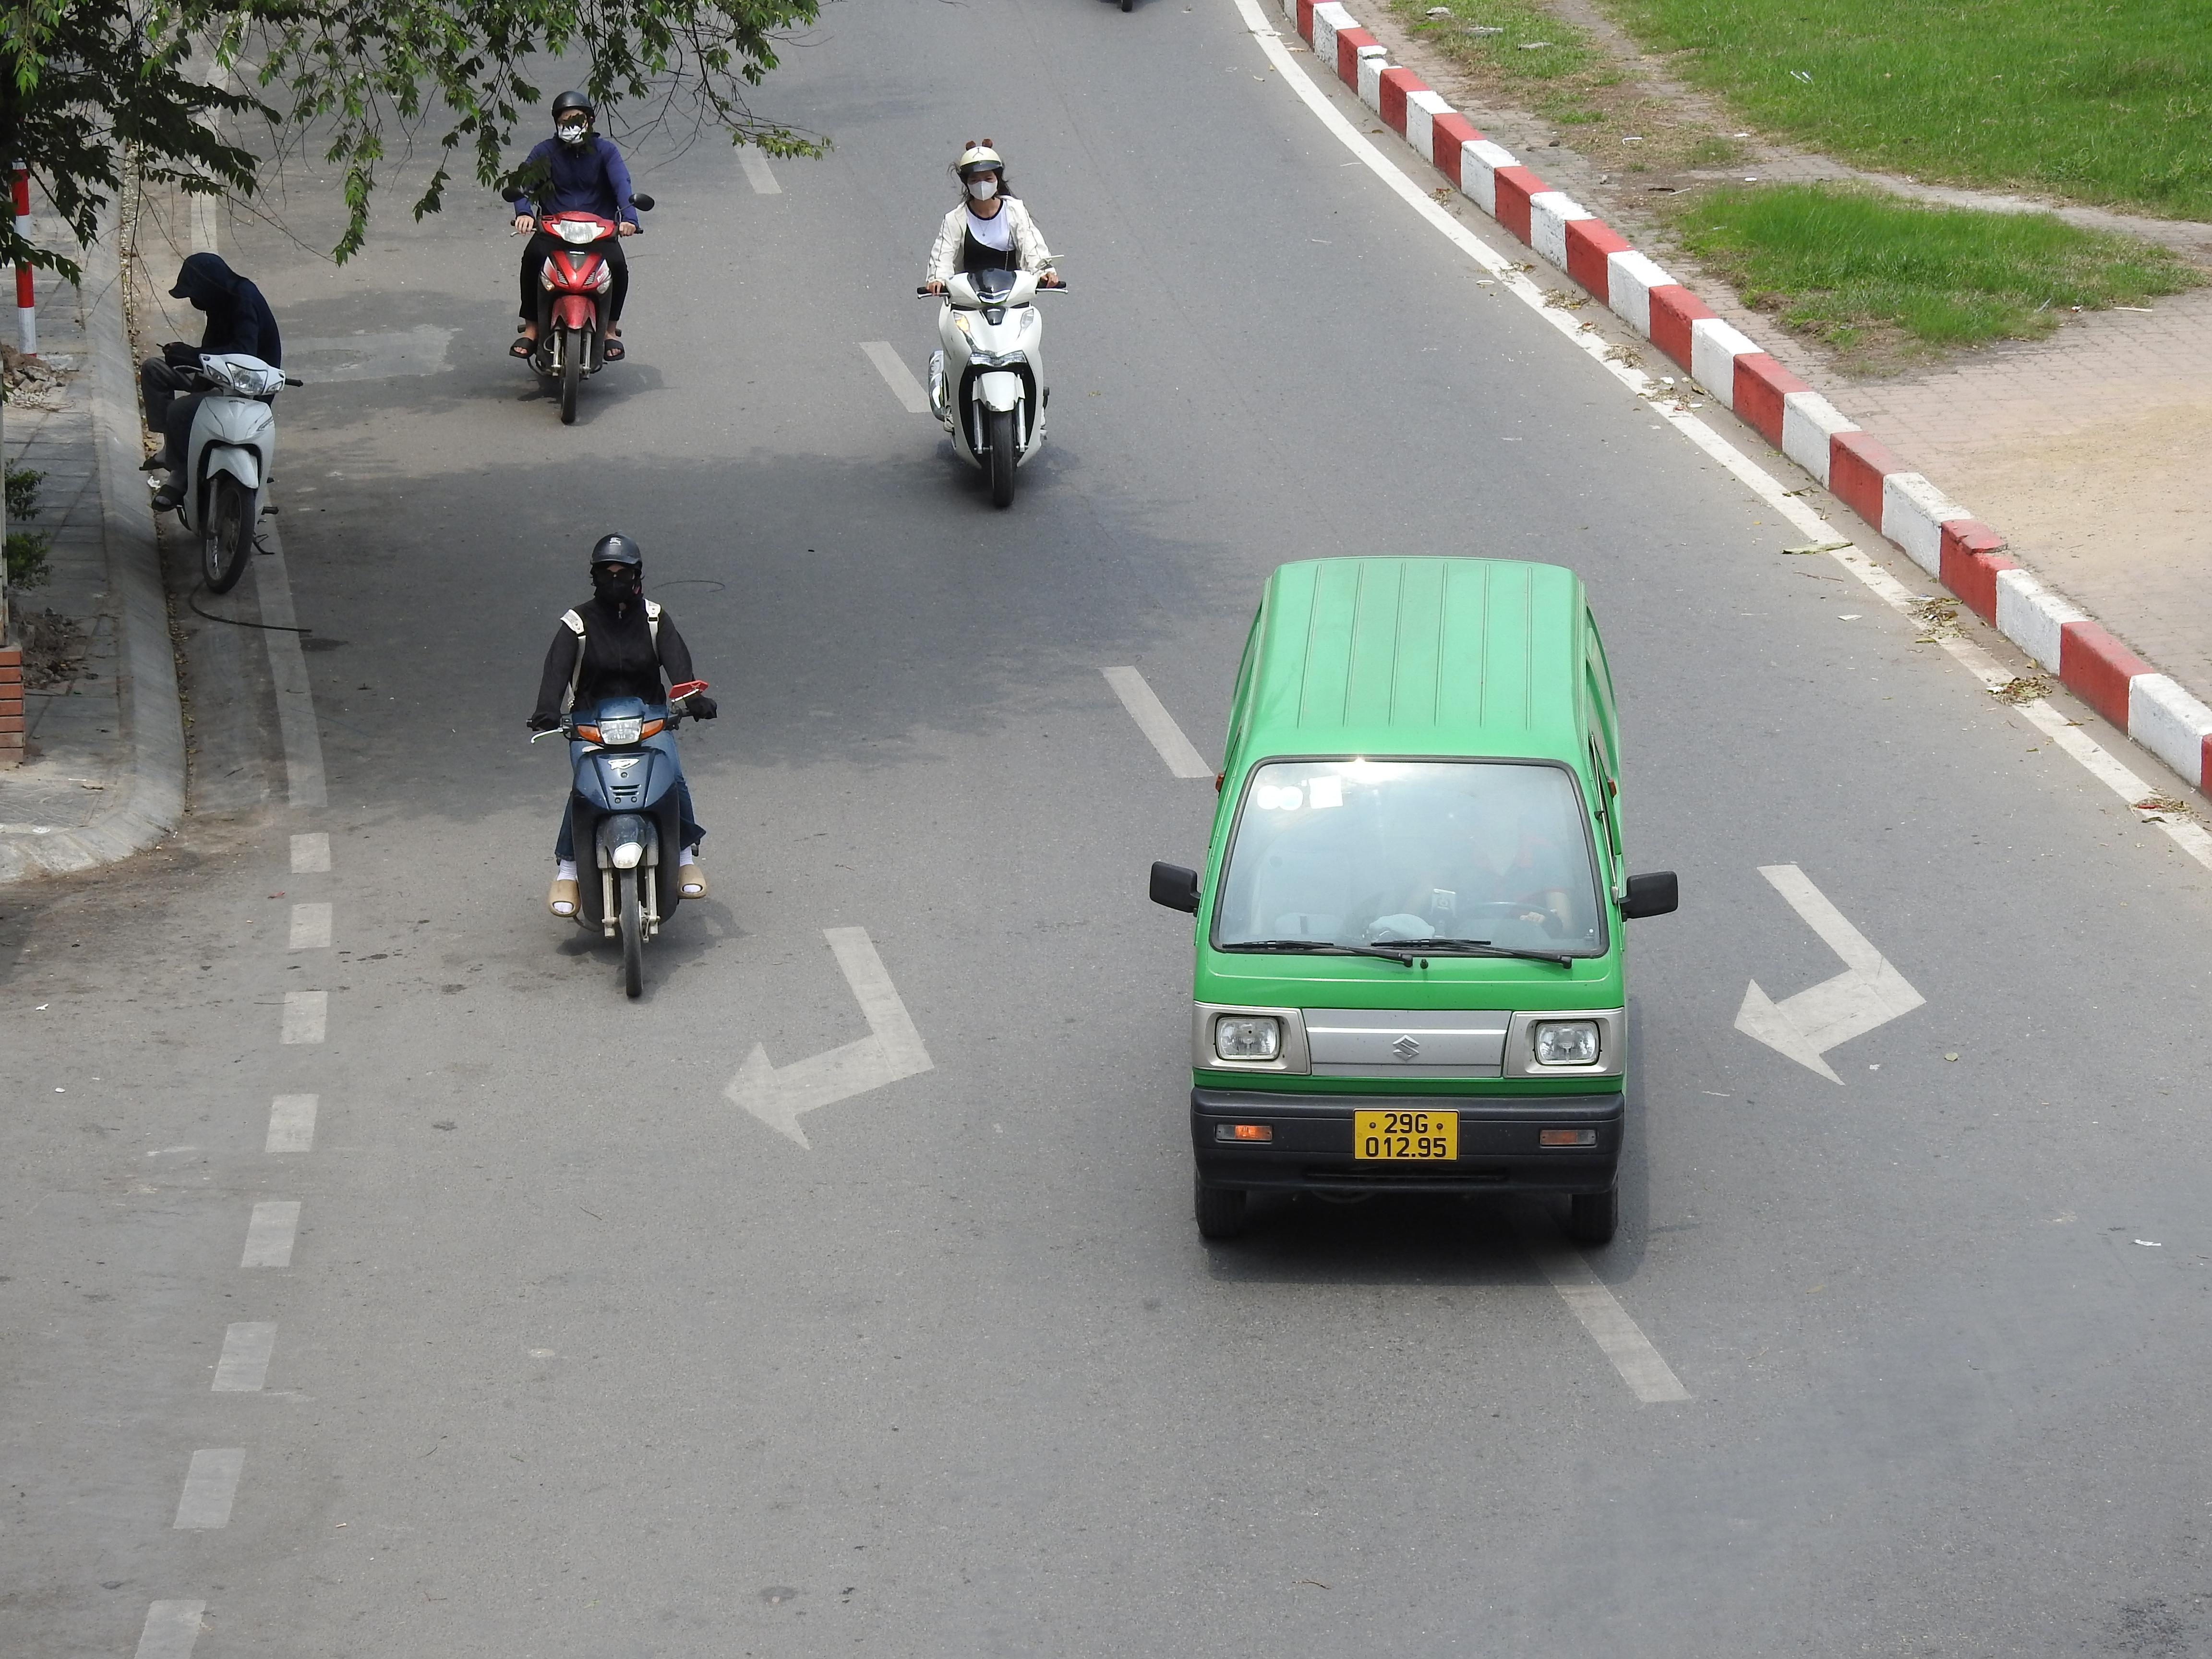BSV: (1353, 1110, 1458, 1161)
car: (1148, 552, 1679, 1249)
motorbike: (531, 532, 714, 1002), (134, 249, 296, 598), (920, 139, 1061, 512), (503, 87, 644, 427)
